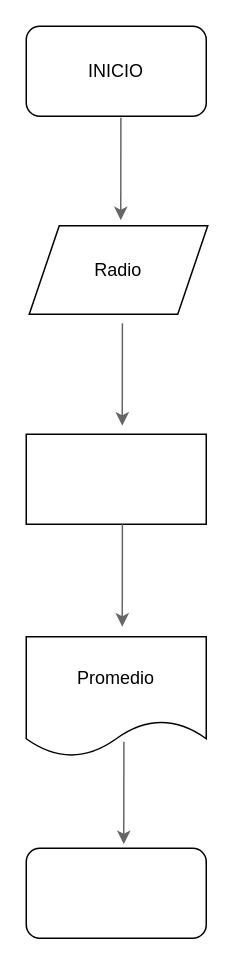
This 234x965 diagram has some shape labels left out. The shapes that lost their labels are listed below. From the top down, each one's box as (x1, y1, x2, y2) in pixels, then its label:
(25, 433, 206, 524): PI = 3,14 Área = PI x Radio 2
(25, 847, 206, 938): FIN
